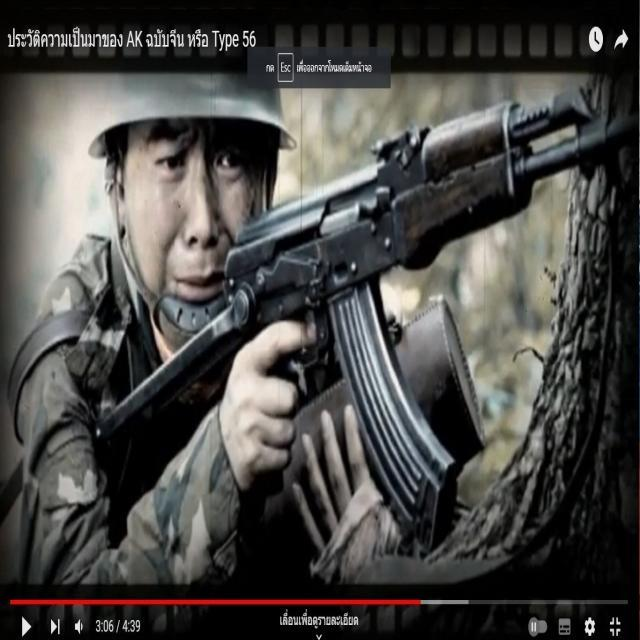ak: (93, 71, 630, 551)
